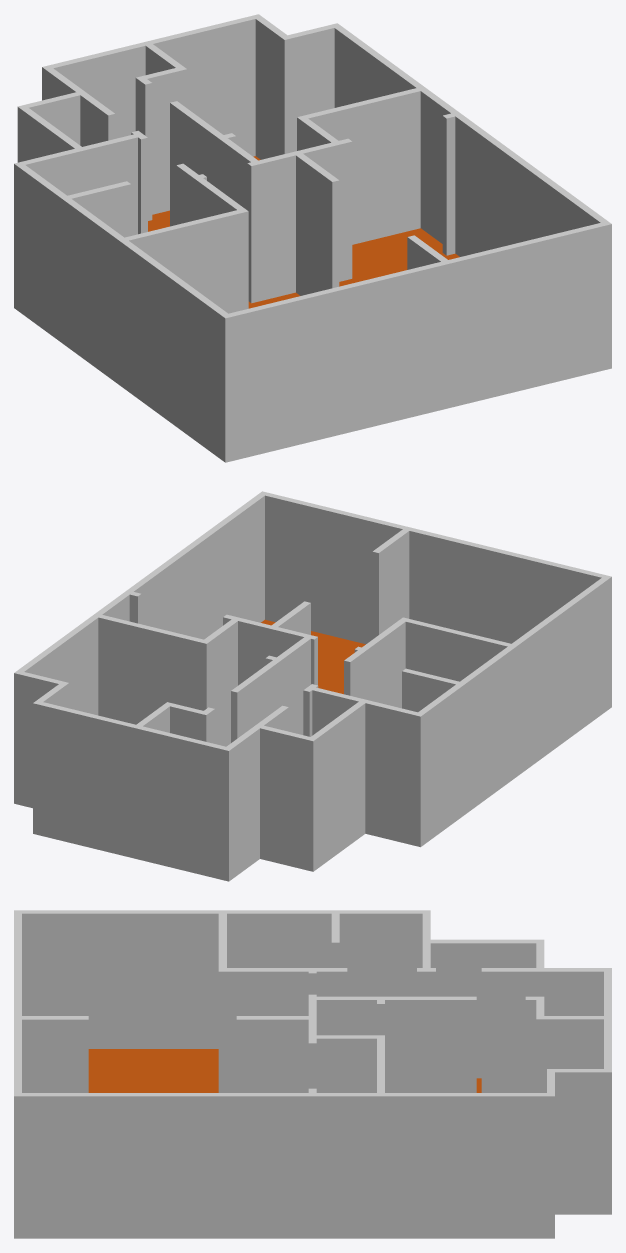
Rendered from apartment.gltf.
The picture shows the model from 3 angles, top to bottom: view 1: azimuth 30°, elevation 25°; view 2: azimuth 150°, elevation 25°; view 3: azimuth 270°, elevation 25°; orthographic projection. The views are drawn at different scales.
Visible parts, largest first — view 1: path4942-6-2; view 2: path4942-6-2; view 3: path4942-6-2.
Boxes of the visible parts, x1,y1,x2,y2 form: path4942-6-2: (14, 14, 611, 462); path4942-6-2: (14, 491, 611, 881); path4942-6-2: (14, 910, 611, 1238).
Bounding box in the file's own units: 2.71 × 0.9689 × 3.69.
